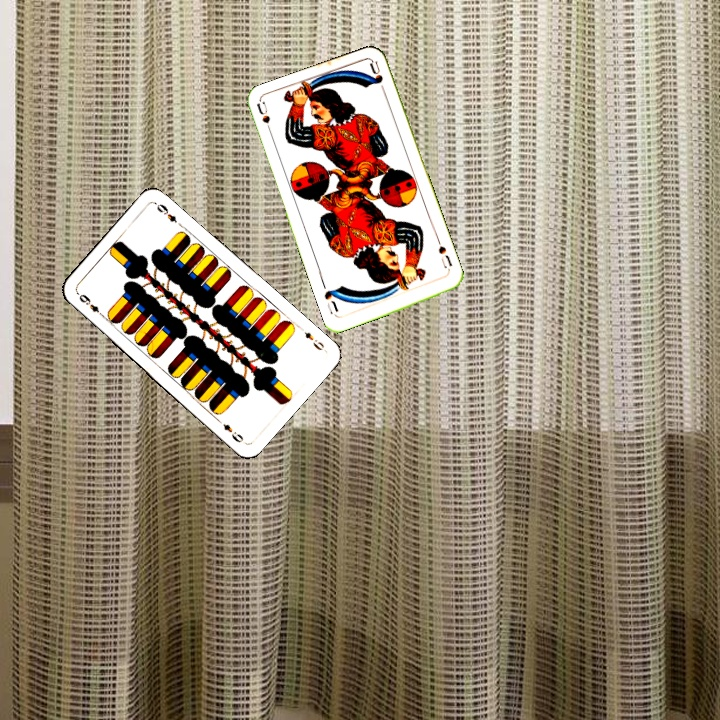E9: (73, 289, 107, 320), (295, 323, 327, 353)
SU: (253, 99, 276, 139), (434, 242, 453, 277)
